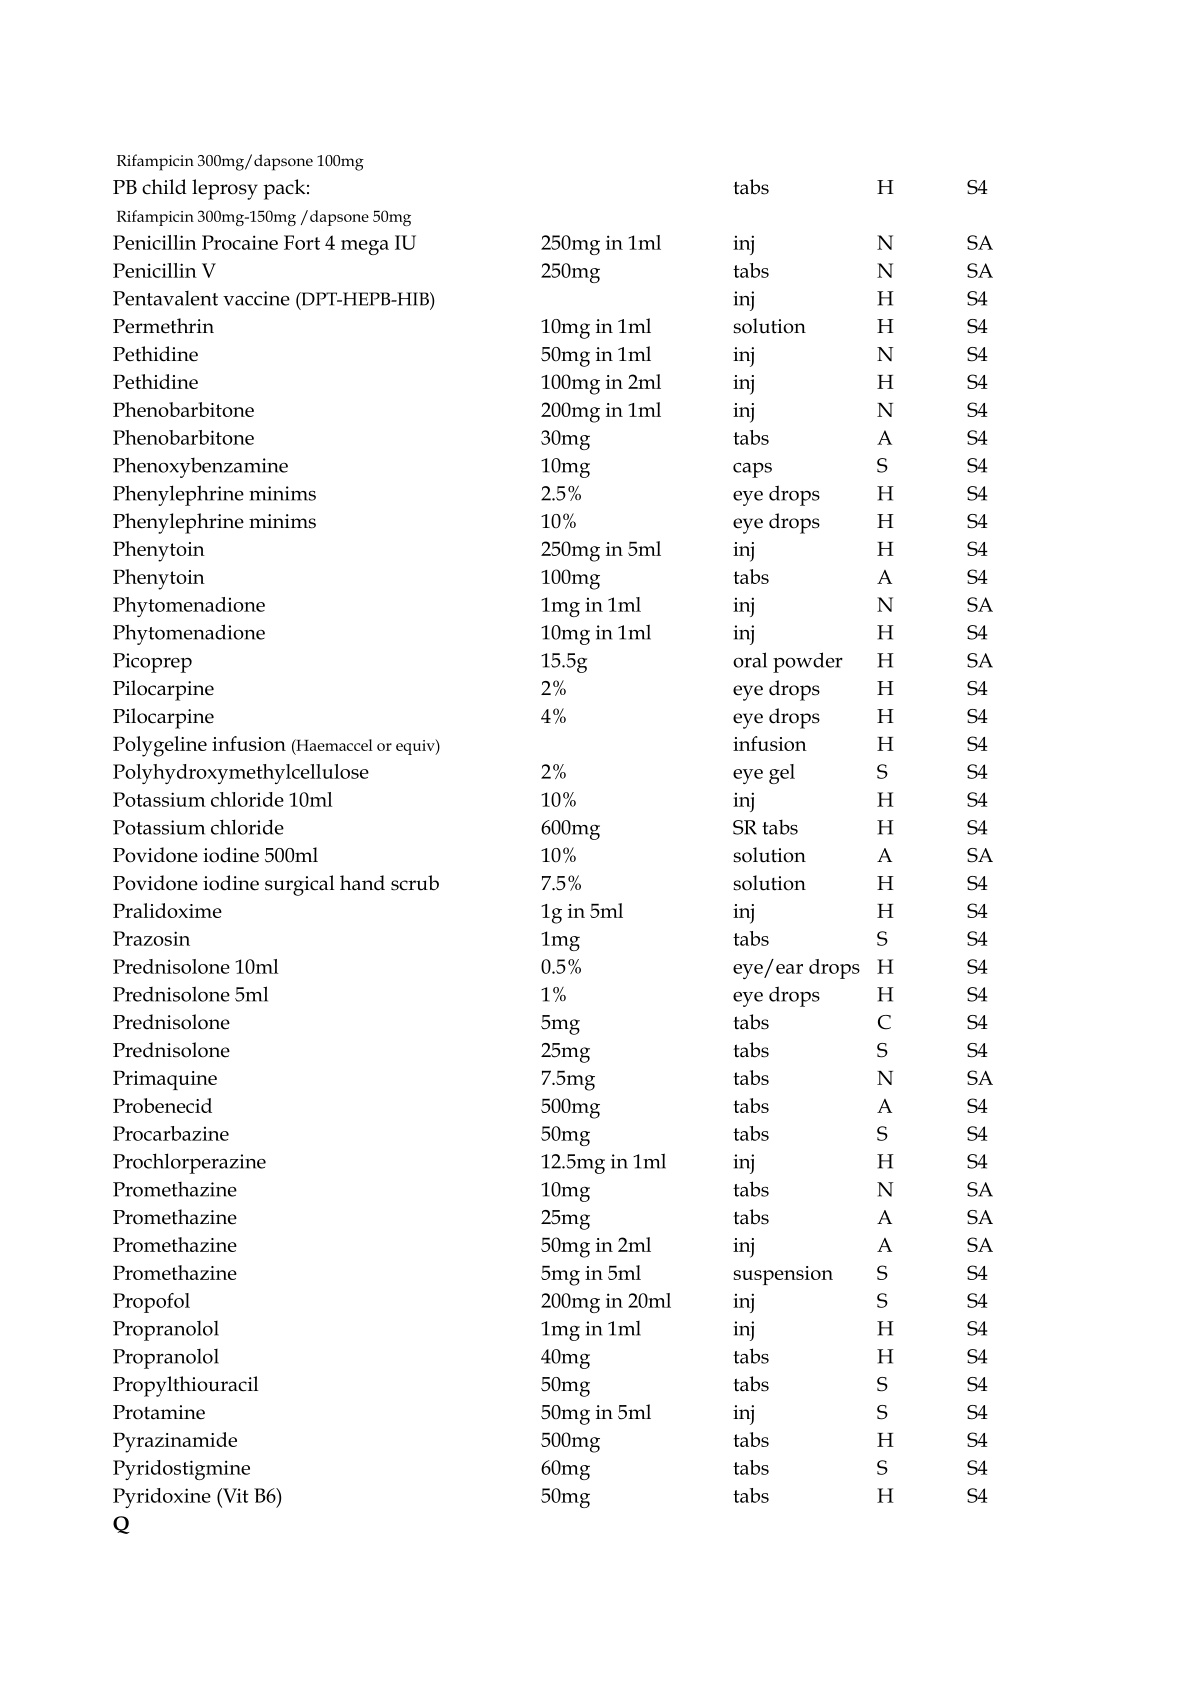nolines: (115, 151, 990, 1539)
